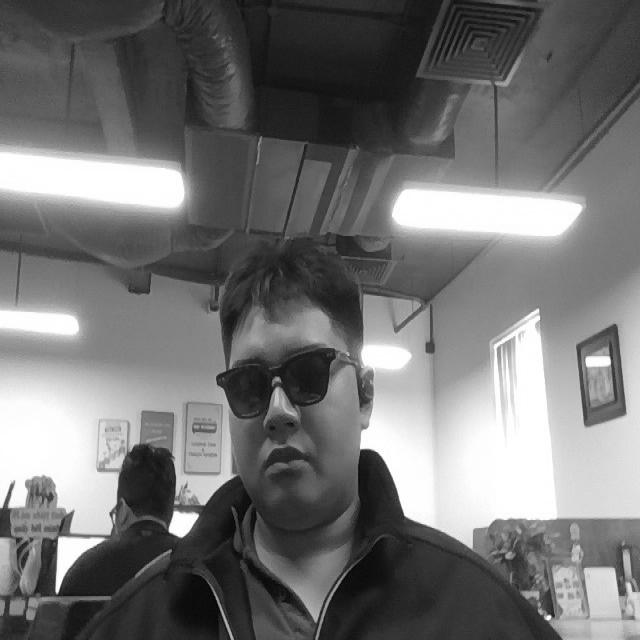fake: (216, 347, 360, 420)
real: (214, 242, 379, 521)
